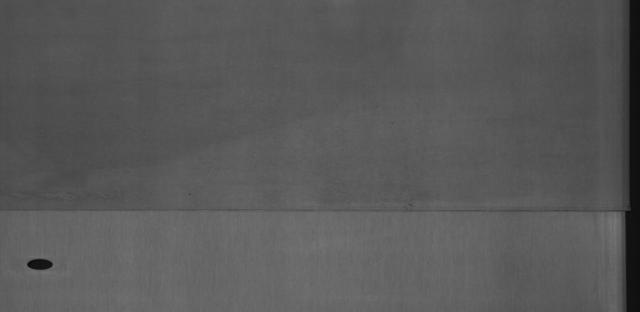punching_hole: (24, 255, 60, 271)
welding_line: (4, 202, 637, 225)
